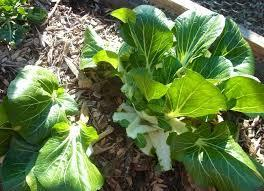Healthy-Pechay: (95, 1, 264, 169), (4, 70, 106, 189)
